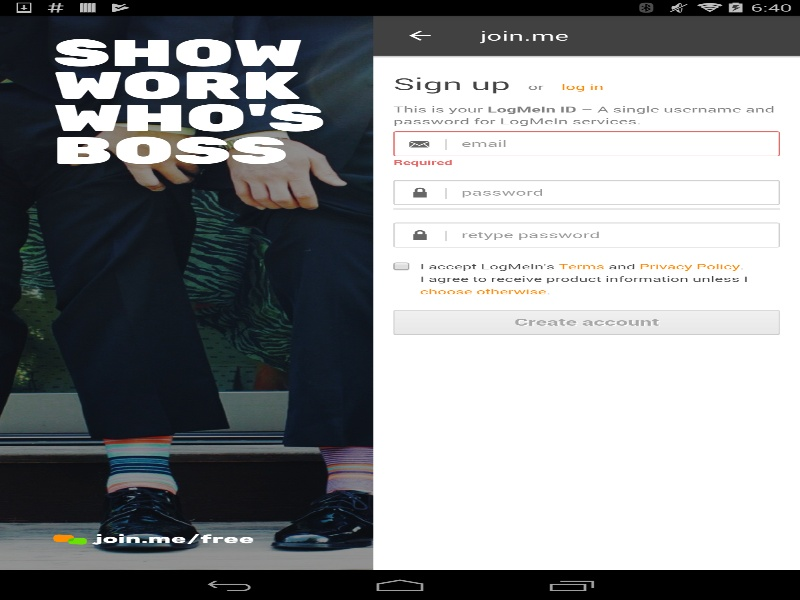Button: (393, 310, 780, 334), (384, 15, 458, 55)
Input: (393, 131, 780, 156), (393, 180, 780, 205), (393, 222, 780, 247)
